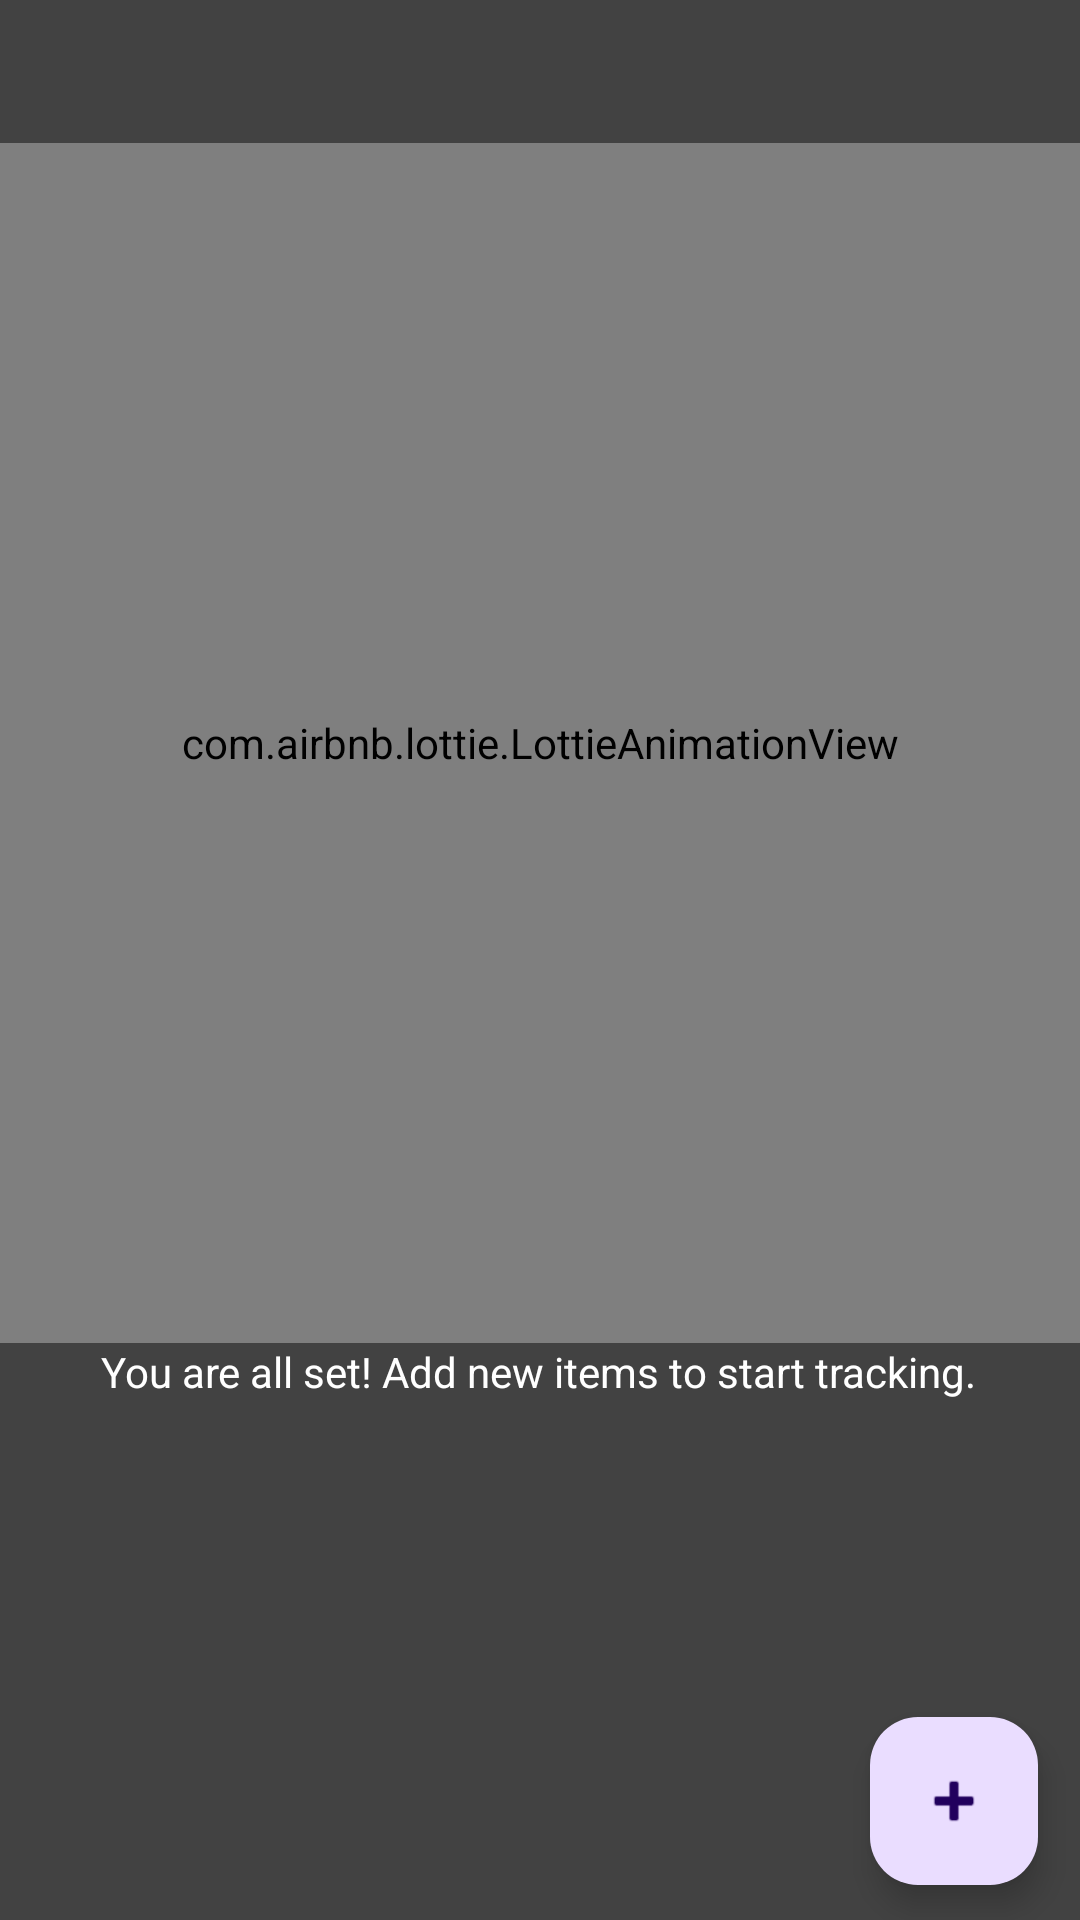

Icons on this 1080*1920 Android screen, each with the point to tap as (x,y):
Add ToDo task: (954,1801)
